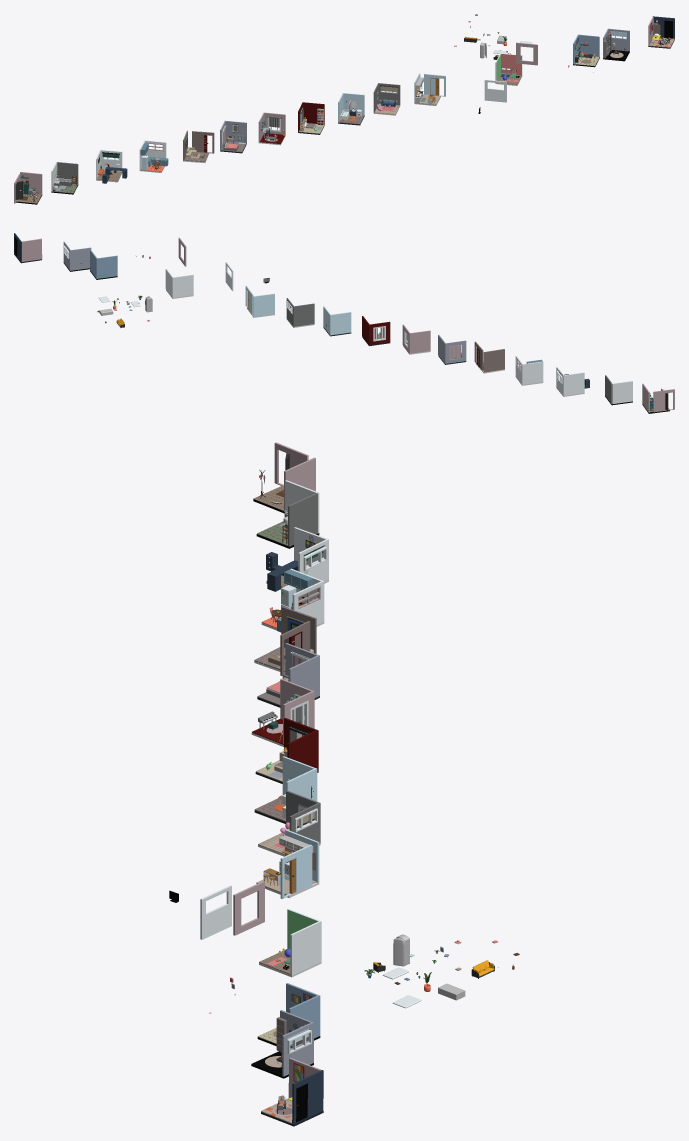
The model's file is 3DRooms.fbx.
The picture shows the model from 3 angles, top to bottom: view 1: azimuth 30°, elevation 25°; view 2: azimuth 150°, elevation 25°; view 3: azimuth 270°, elevation 25°; orthographic projection. The views are drawn at different scales.
Visible parts, largest first — view 1: Wall (6), Wall (30), Wall (26), Wall (8), Wall (18), Wall (27), Wall (19), Wall (16), Wall (12), Wall (21), Wall (33), Wall (4) (+1 smaller); view 2: Wall (14), Wall (20), Wall (25), Wall (5), Wall (9), Wall (15), Wall (11), Wall (13), Wall (17), Wall (22), Wall (7), Wall (23) (+3 smaller); view 3: Wall (26), Wall (30), Wall (18), Wall (21), Wall (24).
Boxes of the visible parts, x1,y1,x2,y2 form: Wall (6): [578, 34, 599, 56]; Wall (30): [484, 79, 506, 102]; Wall (26): [500, 53, 522, 75]; Wall (8): [225, 120, 246, 142]; Wall (18): [57, 162, 78, 184]; Wall (27): [20, 172, 42, 194]; Wall (19): [303, 102, 324, 124]; Wall (16): [343, 93, 364, 114]; Wall (12): [192, 131, 214, 153]; Wall (21): [424, 73, 445, 96]; Wall (33): [608, 28, 629, 51]; Wall (4): [516, 42, 537, 65]; Wall (14): [563, 372, 584, 395]; Wall (20): [253, 293, 274, 316]; Wall (25): [172, 274, 193, 297]; Wall (5): [96, 255, 117, 278]; Wall (9): [293, 303, 314, 326]; Wall (15): [330, 312, 351, 335]; Wall (11): [483, 349, 504, 372]; Wall (13): [522, 361, 543, 384]; Wall (17): [611, 381, 632, 403]; Wall (22): [69, 247, 91, 270]; Wall (7): [409, 330, 430, 353]; Wall (23): [22, 238, 42, 261]; Wall (26): [290, 921, 321, 975]; Wall (30): [200, 885, 231, 939]; Wall (18): [288, 493, 317, 546]; Wall (21): [280, 844, 312, 898]; Wall (24): [292, 1070, 323, 1124].
Size of the model in its own units: 6825 by 423 by 1578.
